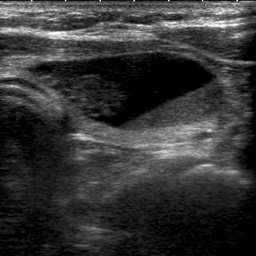mass: (31, 51, 221, 129)
